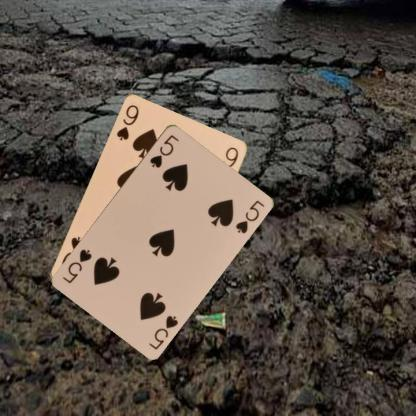5s: (146, 312, 180, 351), (147, 132, 180, 168)
9s: (114, 100, 140, 142)
